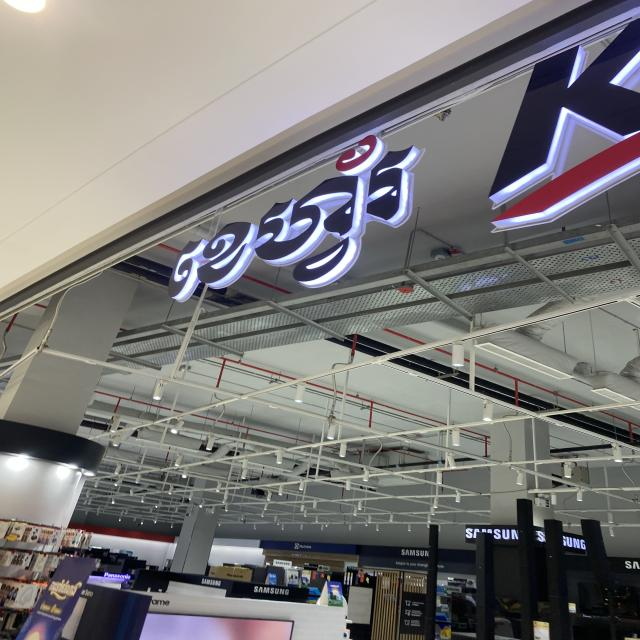Yolov11_80vkh: (156, 108, 428, 323)
